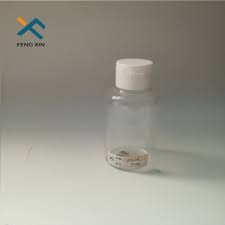available: (101, 48, 161, 178)
